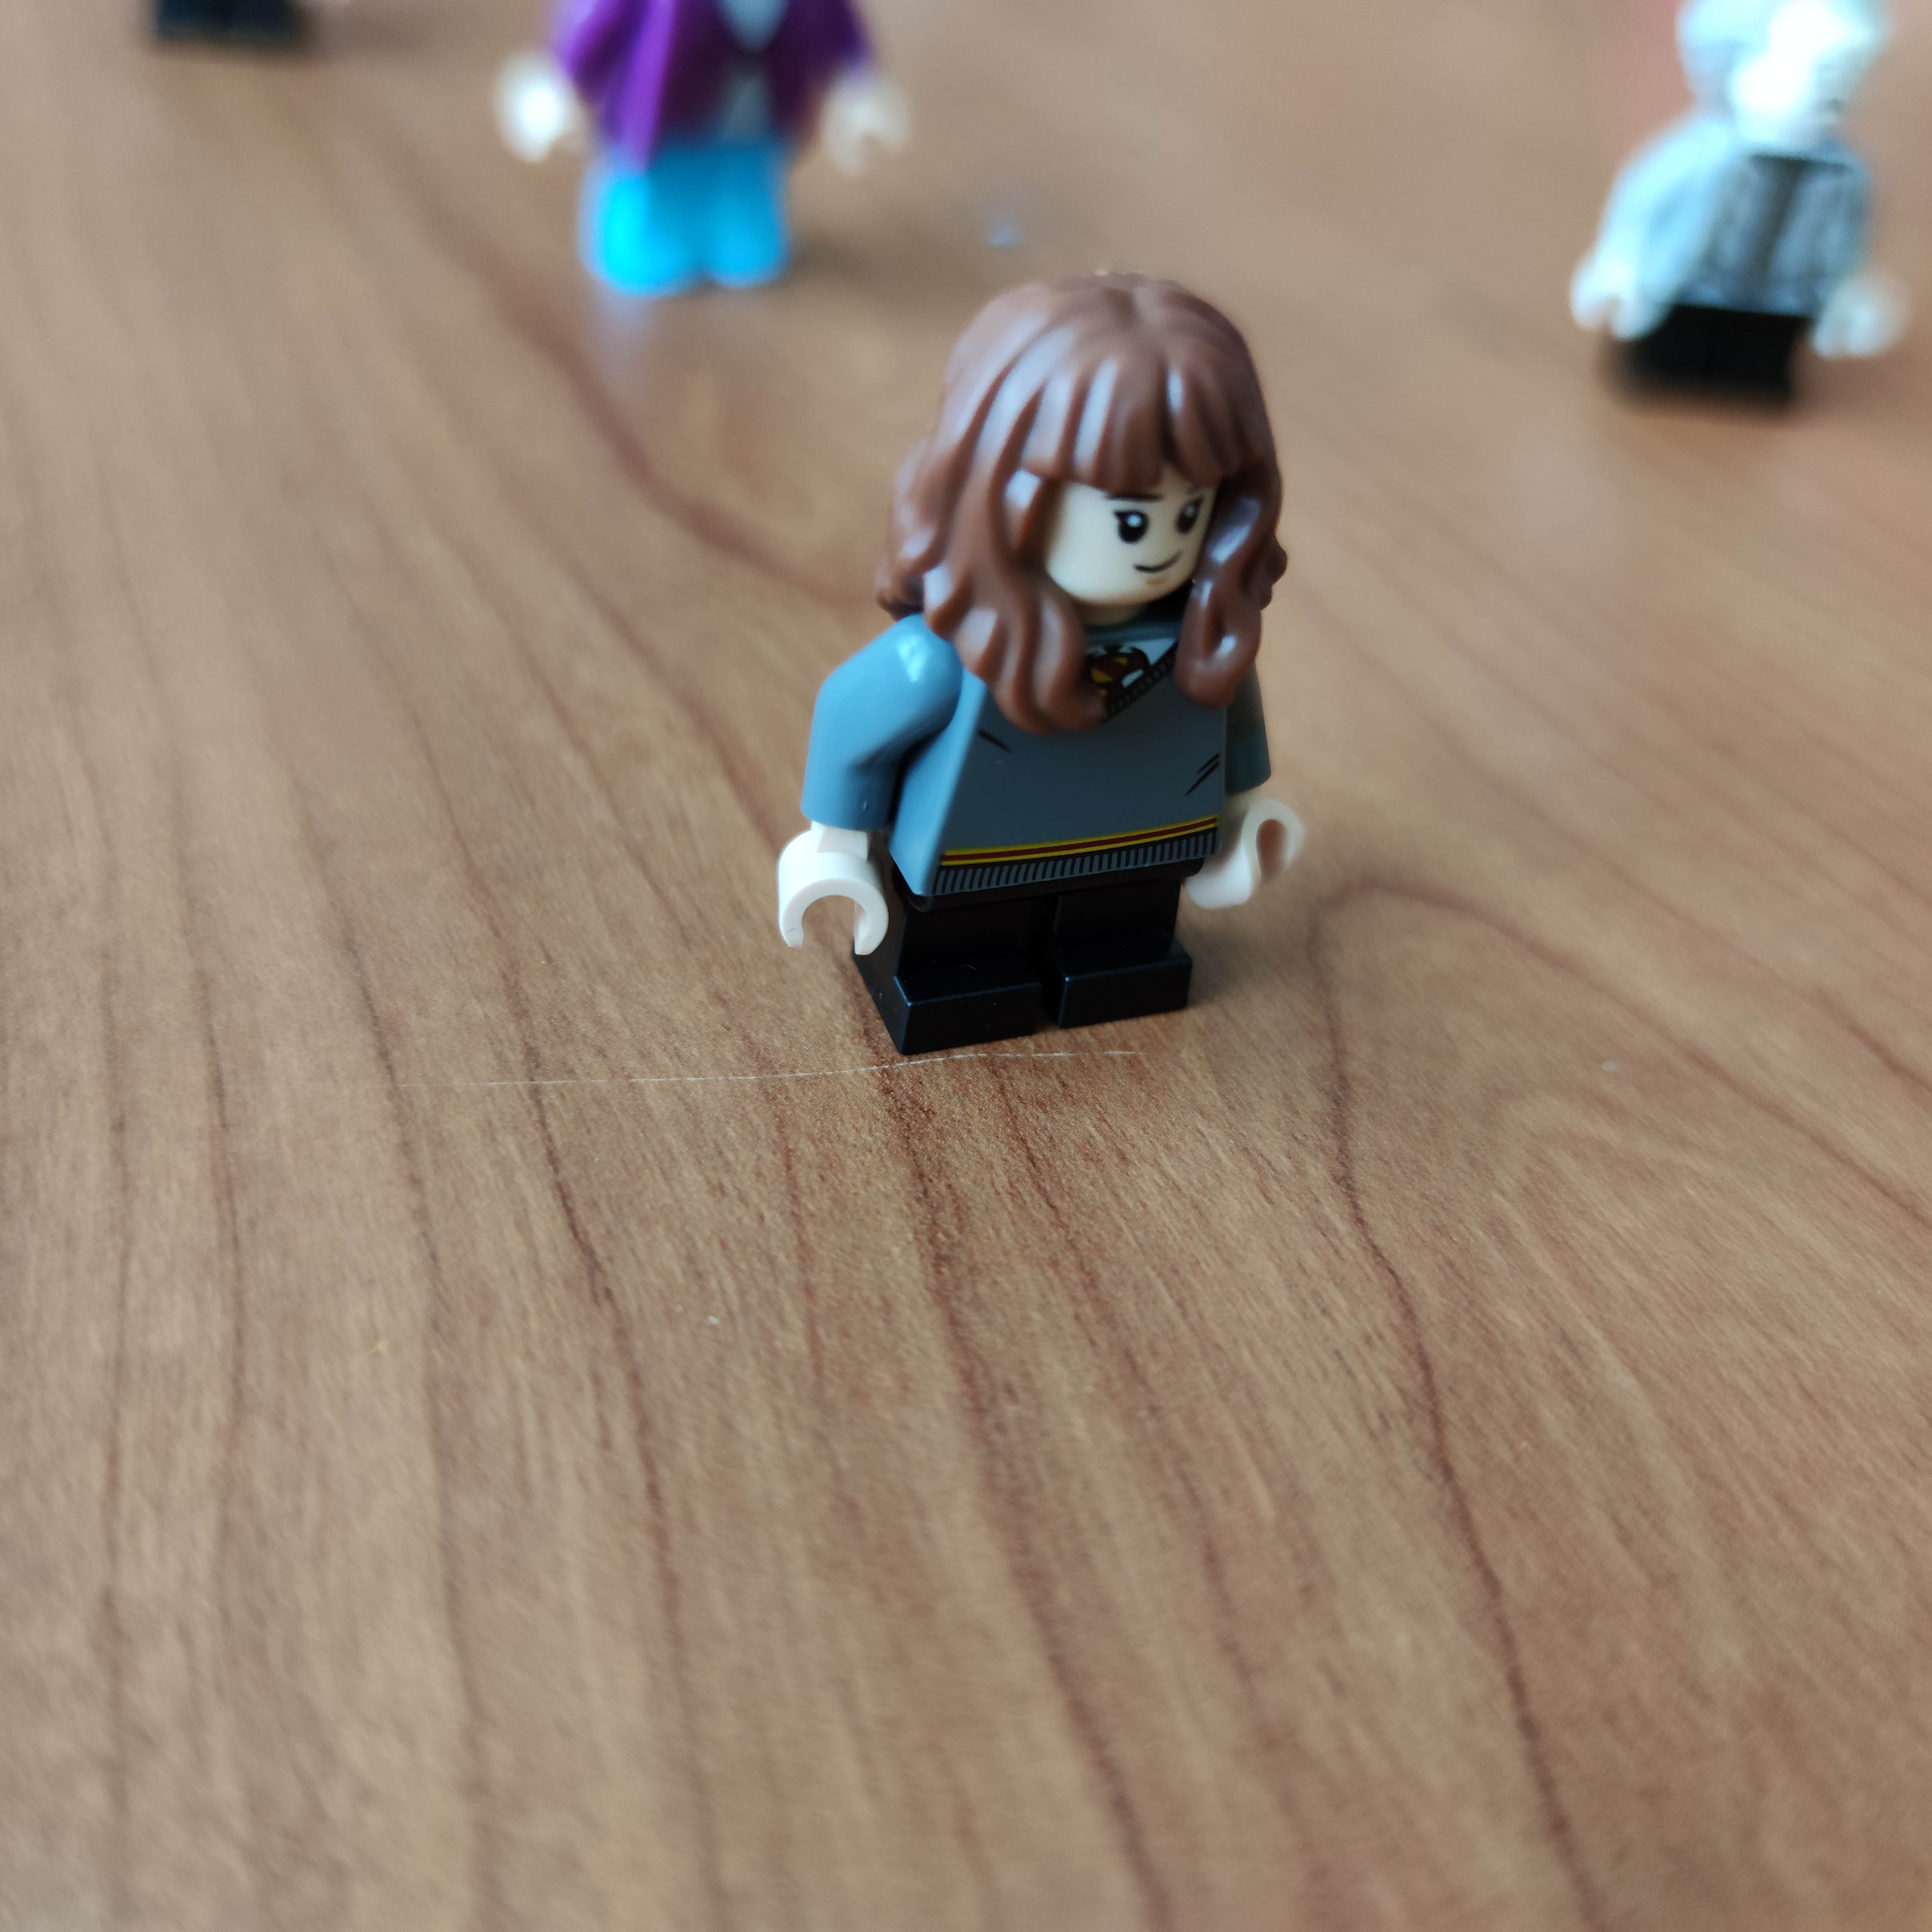lego: (771, 260, 1315, 1065)
